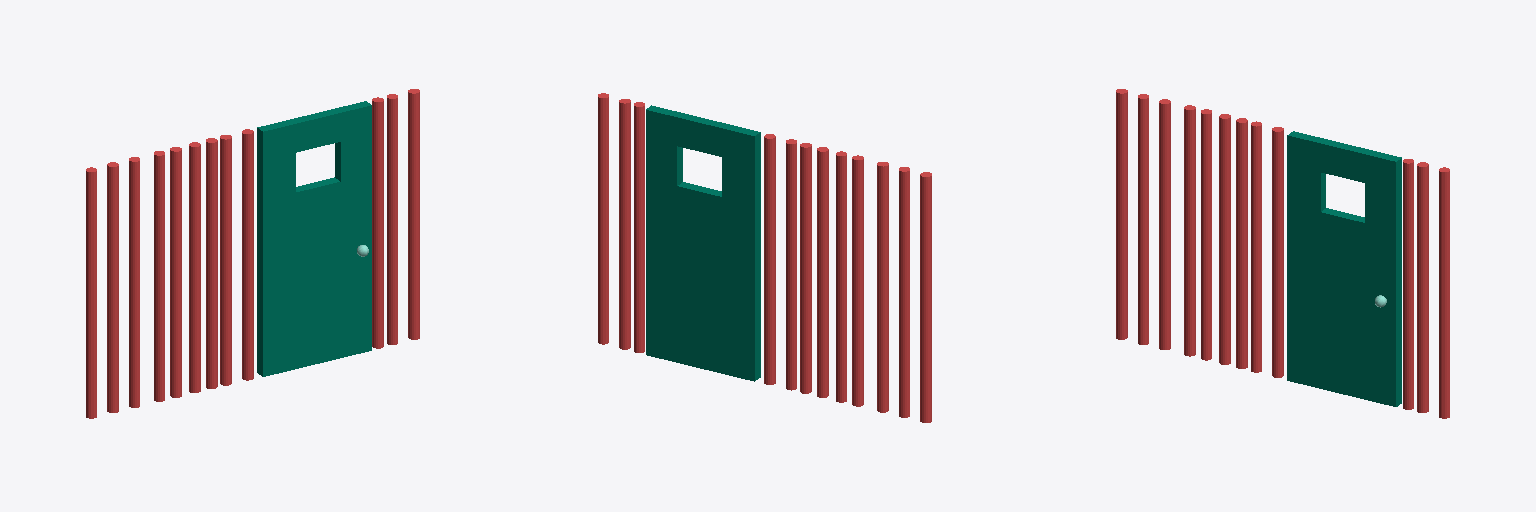
File: Bars'n'door.obj
3 renders of one model, left to right at view 1: azimuth 30°, elevation 25°; view 2: azimuth 150°, elevation 25°; view 3: azimuth 330°, elevation 25°, orthographic.
Parts seen in each view (by area): view 1: Box001, Cylinder005, Cylinder007, Cylinder010, Cylinder012, Cylinder004, Cylinder006, Cylinder002, Cylinder008, Cylinder001, Cylinder003, Cylinder009 (+1 smaller); view 2: Box001, Cylinder001, Cylinder009, Cylinder003, Cylinder005, Cylinder008, Cylinder006, Cylinder011, Cylinder007, Cylinder010, Cylinder002, Cylinder012 (+1 smaller); view 3: Box001, Cylinder001, Cylinder009, Cylinder003, Cylinder005, Cylinder008, Cylinder006, Cylinder011, Cylinder007, Cylinder010, Cylinder002, Cylinder012 (+1 smaller).
Part boxes in pixels (x1,y1,x2,y2): Box001: (257,101,371,376); Cylinder005: (242,129,253,380); Cylinder007: (170,147,181,397); Cylinder010: (408,89,419,339); Cylinder012: (372,97,383,348); Cylinder004: (220,135,231,385); Cylinder006: (206,138,217,388); Cylinder002: (107,162,118,412); Cylinder008: (189,142,200,392); Cylinder001: (86,167,96,418); Cylinder003: (129,157,139,407); Cylinder009: (154,151,164,401); Box001: (646,105,760,381); Cylinder001: (920,172,931,422); Cylinder009: (852,155,863,406); Cylinder003: (877,162,888,412); Cylinder005: (764,134,775,384); Cylinder008: (817,147,828,397); Cylinder006: (800,143,811,393); Cylinder011: (619,99,630,349); Cylinder007: (836,151,846,402); Cylinder010: (598,93,608,344); Cylinder002: (899,167,909,417); Cylinder012: (634,102,644,352); Box001: (1287,131,1401,406); Cylinder001: (1116,89,1127,339); Cylinder009: (1184,105,1195,356); Cylinder003: (1159,99,1170,349); Cylinder005: (1272,127,1283,377); Cylinder008: (1219,114,1230,364); Cylinder006: (1236,118,1247,368); Cylinder011: (1417,162,1428,412); Cylinder007: (1201,109,1211,360); Cylinder010: (1439,167,1449,418); Cylinder002: (1138,94,1148,344); Cylinder012: (1403,159,1413,409).
Bounding box in the file's own units: 97.53 × 68.93 × 6.2.